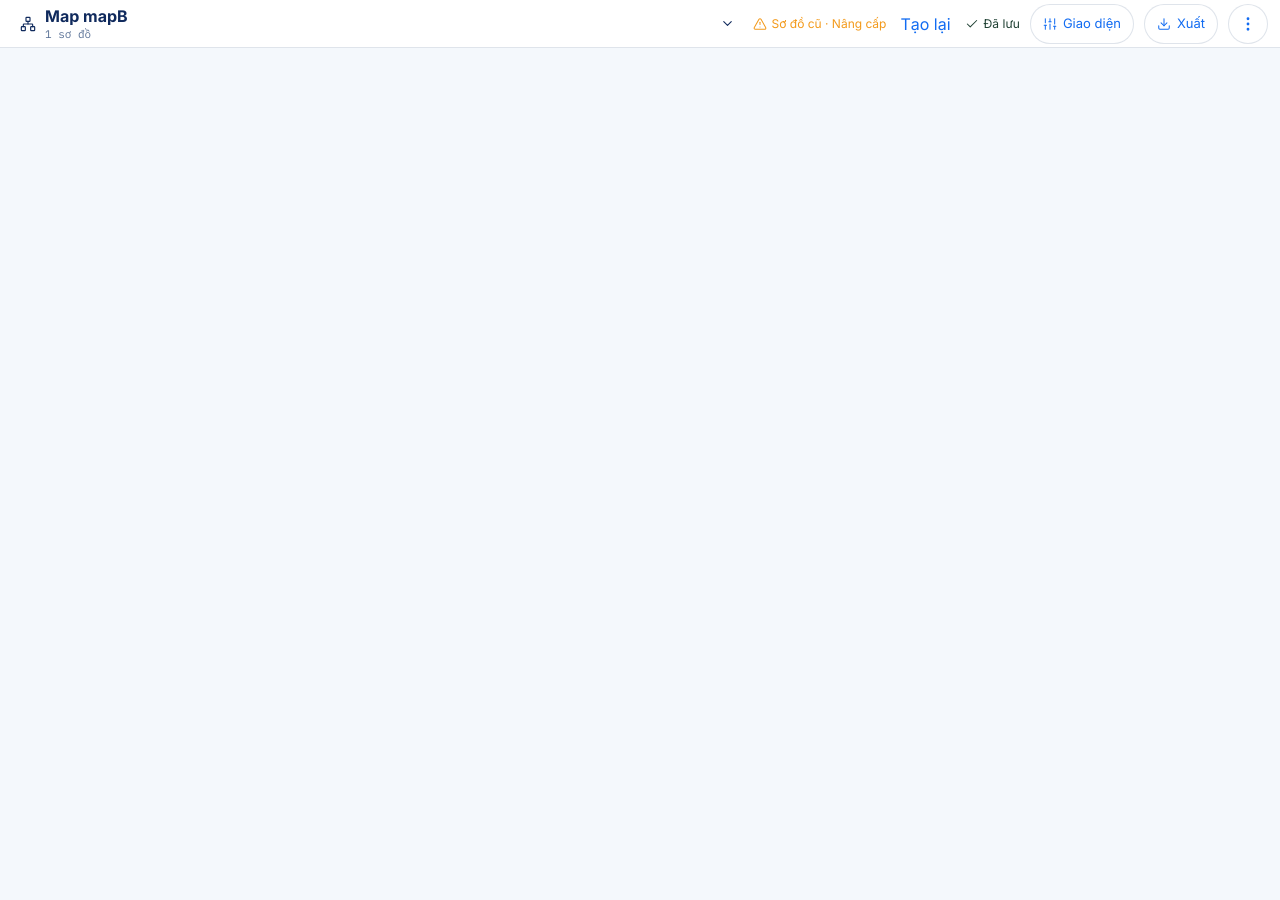
Export Studio keeps the branch selection after the node-detail panel is dismissed (H3A) › does not leak a sticky selection from a previous map into a newly opened map
What coordinates should you click on to do the following:
click the button with aria-label "Xuất sơ đồ"
I would click on:
 (1181, 24)
Its box is [1144,4,1218,44].
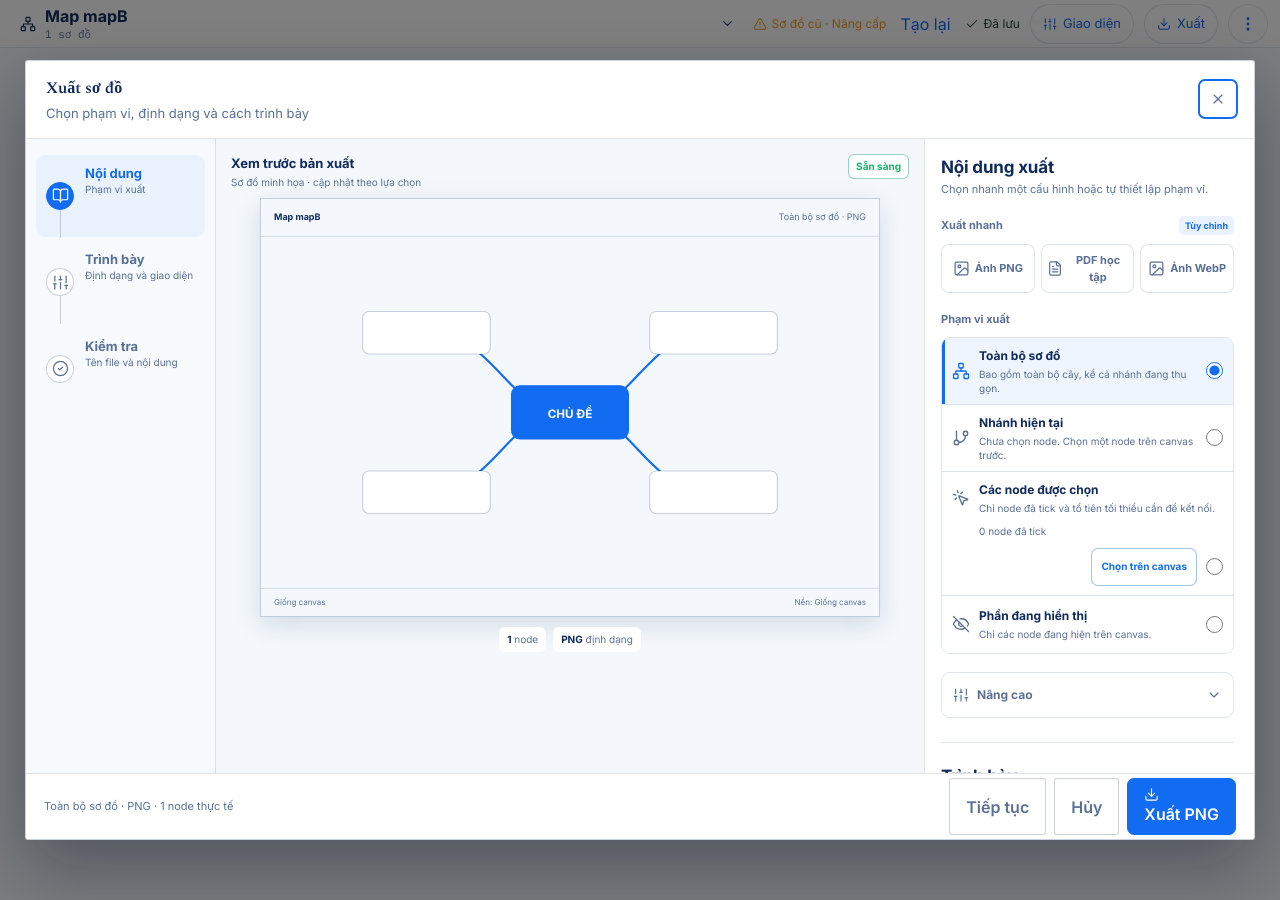
Now the radio button named "mm-export-scope" is checked, box [1206,362,1223,379]
